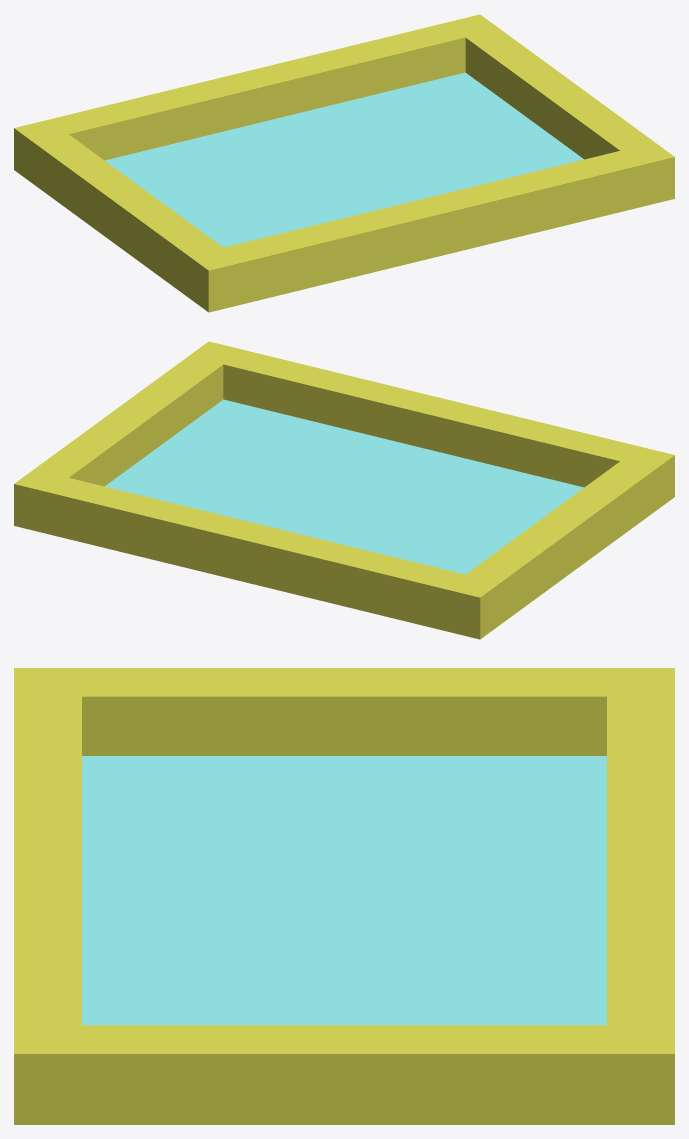
The model's file is tray.fbx.
The picture shows the model from 3 angles, top to bottom: view 1: azimuth 30°, elevation 25°; view 2: azimuth 150°, elevation 25°; view 3: azimuth 270°, elevation 25°; orthographic projection. The views are drawn at different scales.
Parts seen in each view (by area): view 1: Cube; view 2: Cube; view 3: Cube.
Boxes of the visible parts, x1,y1,x2,y2 form: Cube: [14, 14, 674, 312]; Cube: [14, 341, 674, 639]; Cube: [14, 668, 674, 1124].
Bounding box in the file's own units: 689 × 59.15 × 498.
